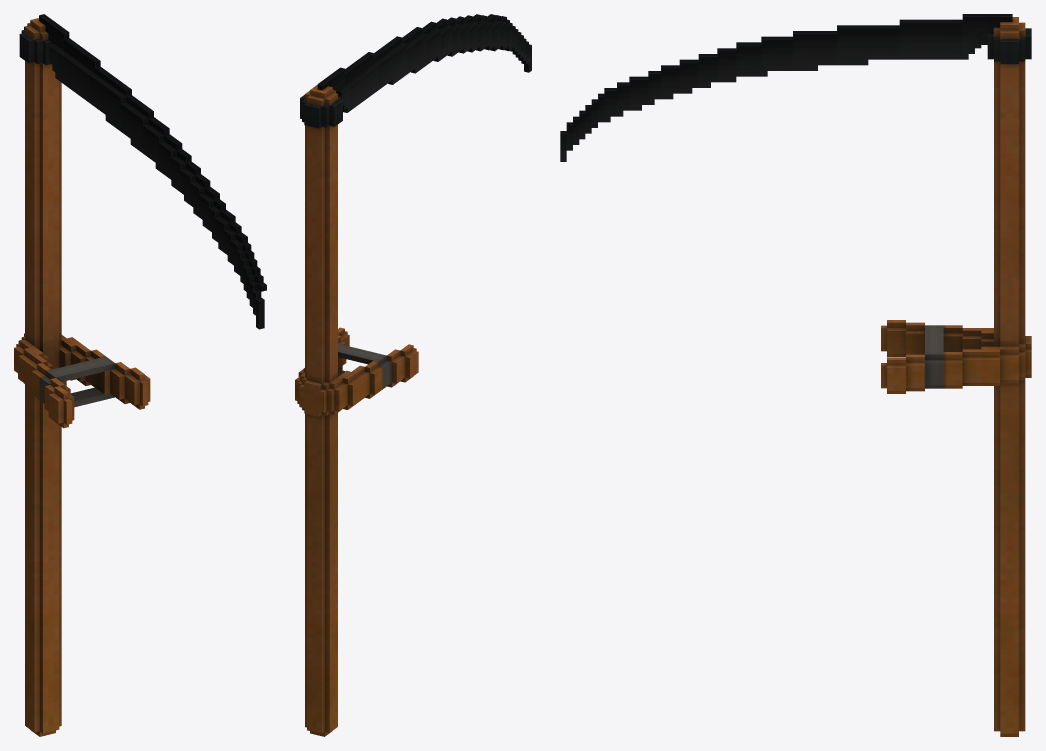
The model's file is RD_SCYTHE.glb.
3 renders of one model, left to right at view 1: azimuth 30°, elevation 25°; view 2: azimuth 150°, elevation 25°; view 3: azimuth 270°, elevation 25°, orthographic. The views are drawn at different scales.
Visible parts, largest first — view 1: SCYTHE; view 2: SCYTHE; view 3: SCYTHE.
Boxes of the visible parts, box(x1,y1,x2,y2) form: SCYTHE: box(14, 14, 266, 736); SCYTHE: box(295, 14, 531, 736); SCYTHE: box(560, 14, 1031, 736).
Bounding box in the file's own units: 0.2343 × 1.74 × 1.03.
1 material, 1 textured.
